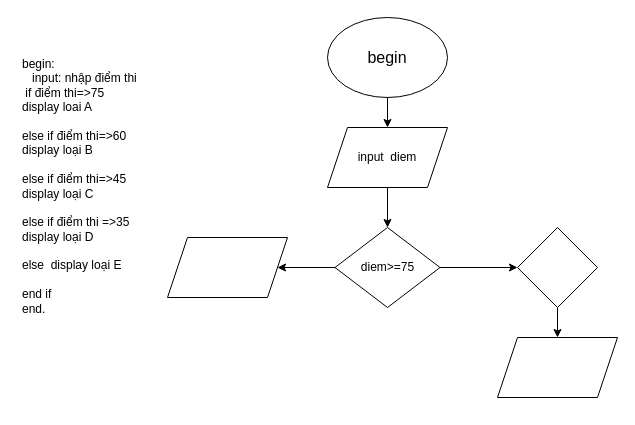
Image size: 635x425. Some labels were removed from this diagram. Each missing label, with the centre of its shape:
"diem=>60" belongs at point (557, 267).
"Loại A" belongs at point (227, 267).
